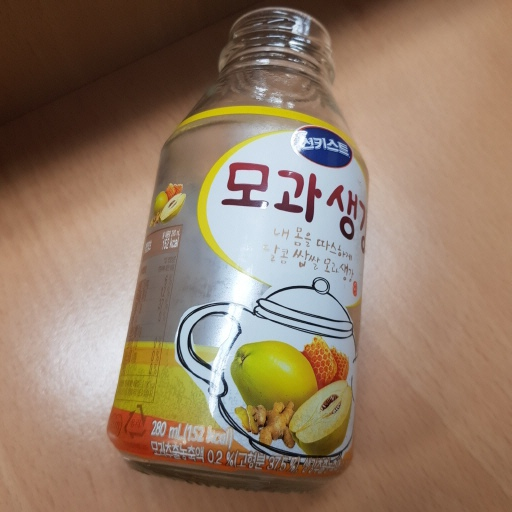Glass_4: (106, 6, 371, 490)
